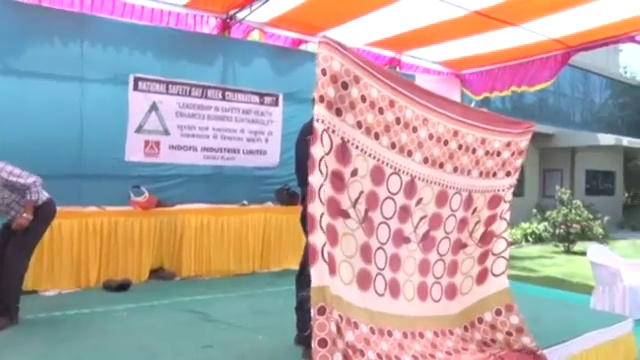person: (1, 160, 56, 327)
